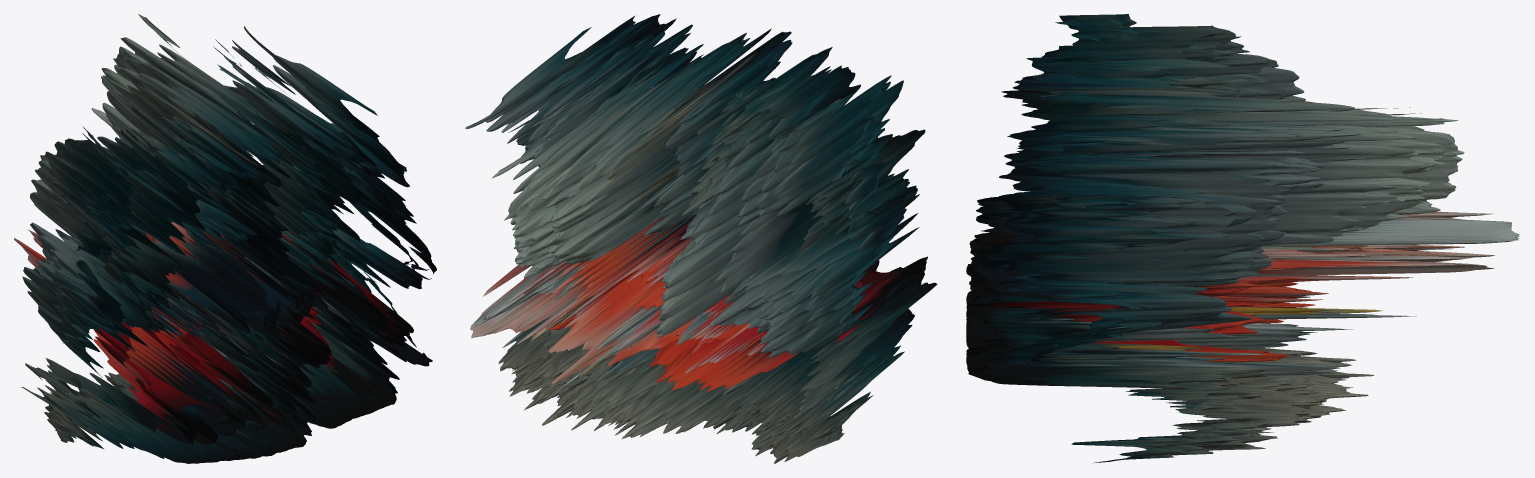
The model's file is f2375d4a-7bdc-4a37-af1f-8d90ff221386_output.glb.
3 views of the same model, side by side, from view 1: azimuth 30°, elevation 25°; view 2: azimuth 150°, elevation 25°; view 3: azimuth 270°, elevation 25° (orthographic). The views are drawn at different scales.
Visible parts, largest first — view 1: world; view 2: world; view 3: world.
Boxes of the visible parts, x1,y1,x2,y2 form: world: [14, 14, 436, 463]; world: [465, 14, 937, 463]; world: [966, 14, 1520, 463].
Bounding box in the file's own units: 0.9961 × 0.9961 × 1.63.
Materials: 1 (1 with a texture image).
